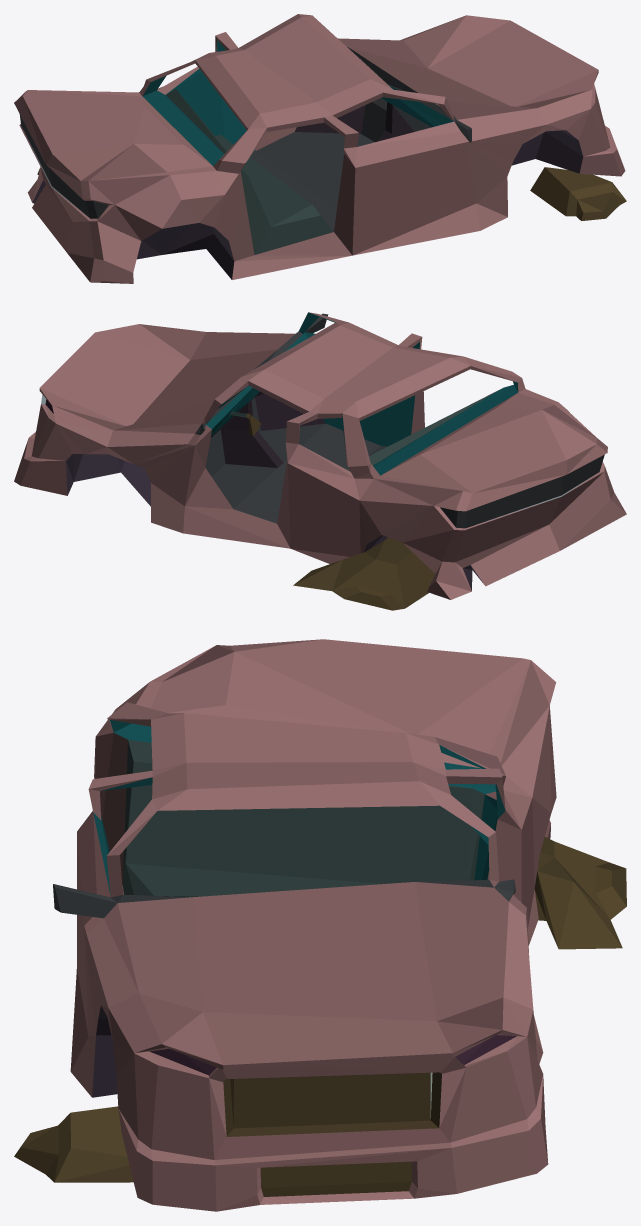
Rendered from autos_destruidos1.fbx.
3 renders of one model, top to bottom at view 1: azimuth 30°, elevation 25°; view 2: azimuth 150°, elevation 25°; view 3: azimuth 270°, elevation 25°, orthographic. The views are drawn at different scales.
Visible parts, largest first — view 1: car 1,/.RC; view 2: car 1,/.RC; view 3: car 1,/.RC.
Part boxes in pixels (x1,y1,x2,y2): car 1,/.RC: (14,14,626,283); car 1,/.RC: (14,312,626,610); car 1,/.RC: (14,639,626,1211).
Size of the model in its own units: 7933 by 2122 by 4922.
Materials: 1 (1 with a texture image).
